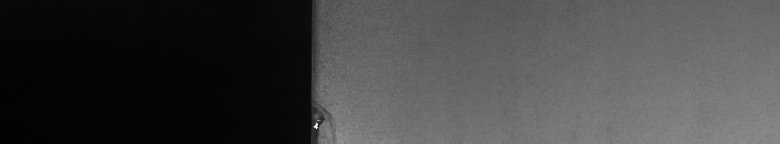hb: (320, 100, 340, 136)
